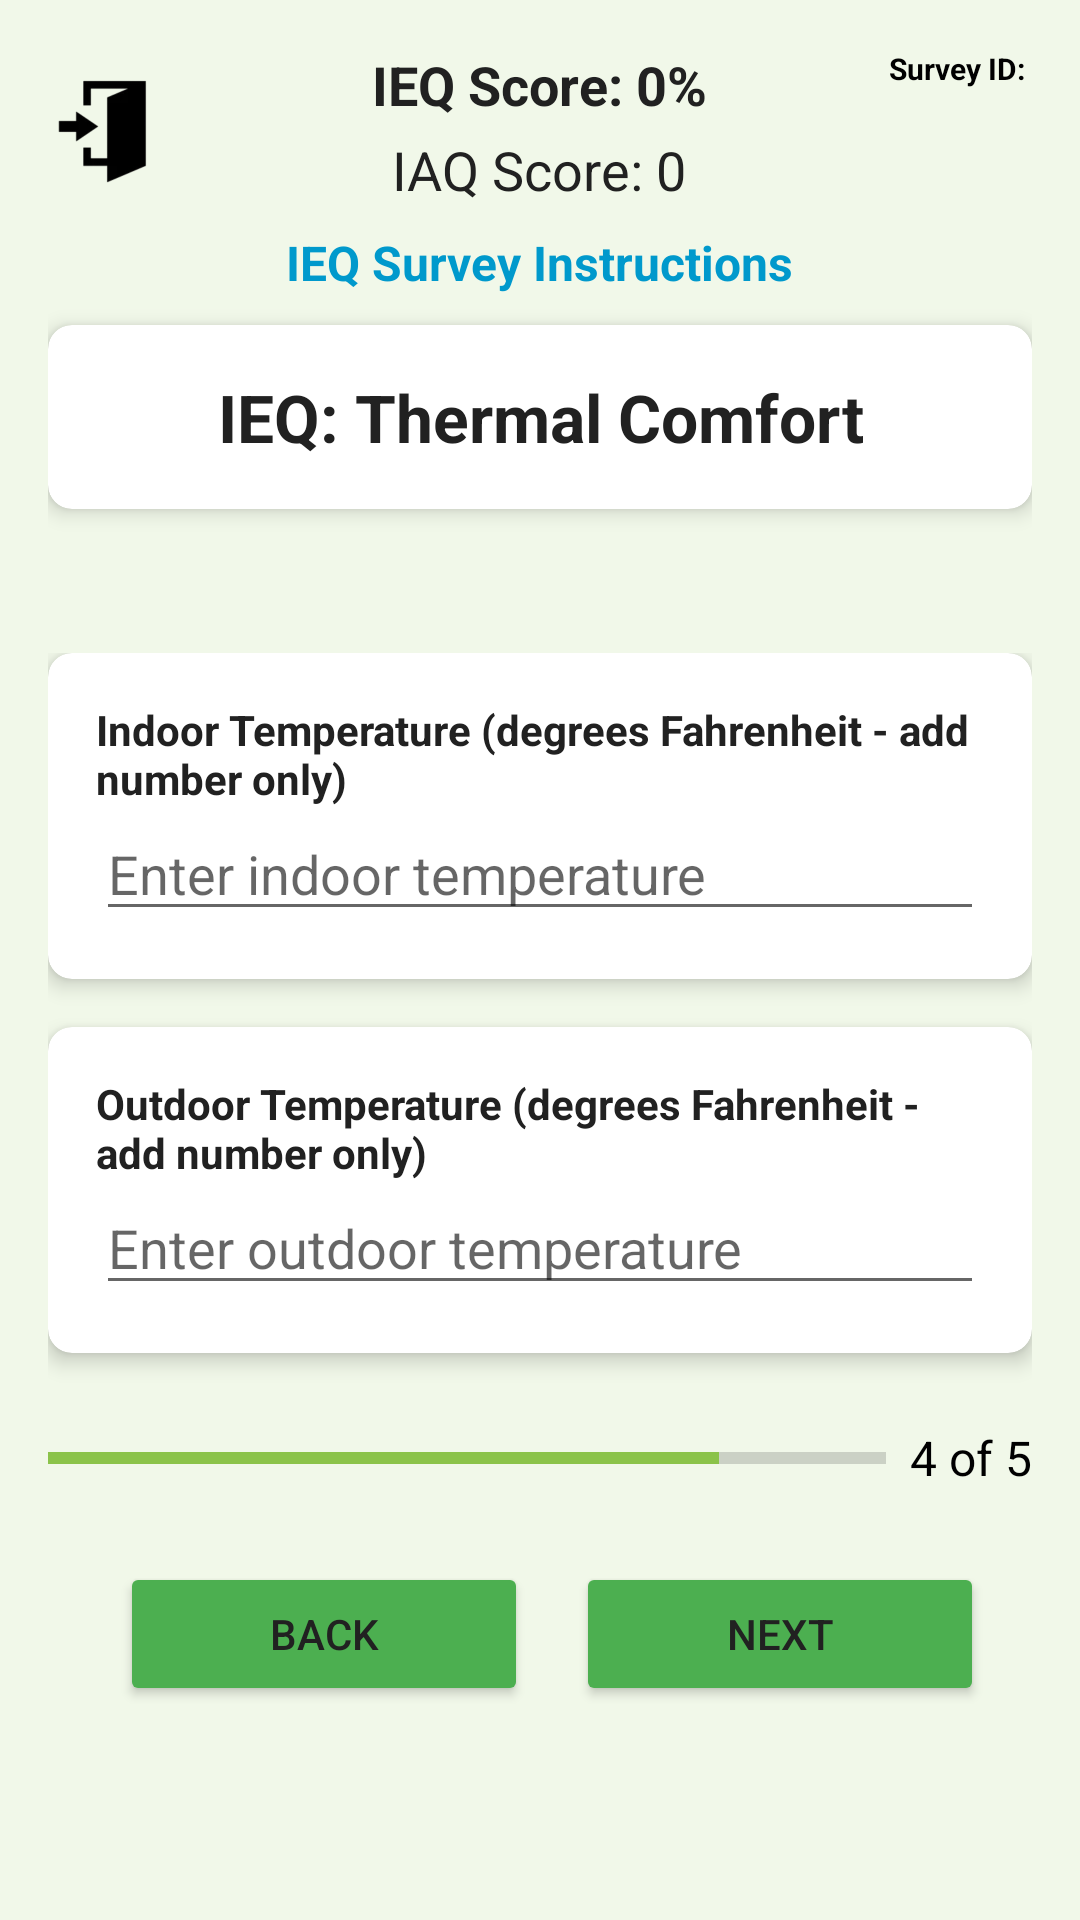

Named icons in this screenshot (1080w x 1920h) and their centers, [x,y]:
exit: [102,131]
